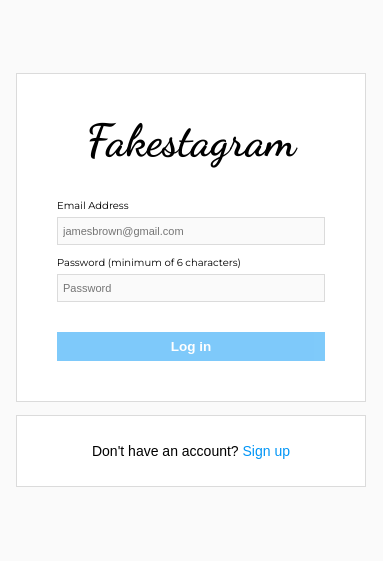
it: SignUpAndLogin component › is able to to successfully go from the Login page to the Signup page and back to the Signup page
The image size is (383, 561).
Expected: the button "Log in" is shown, [57,332,325,361]
Expected: the text "Don't have an account?" is shown, [92,443,243,459]
What coordinates should you click on to do the following:
click the link "Sign up"
I would click on:
 (266, 451)
Its box is [242,443,290,459].
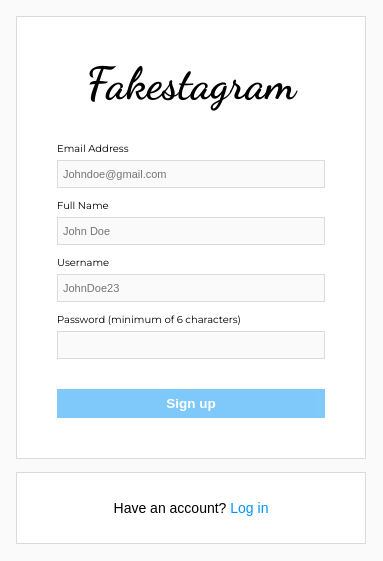
Expected: the button "Sign up" is shown, [57,389,325,418]
Expected: the text "Have an account?" is shown, [114,500,230,516]
What coordinates should you click on to do the following:
click the link "Log in"
I would click on:
 (249, 508)
Its box is [230,500,268,516].
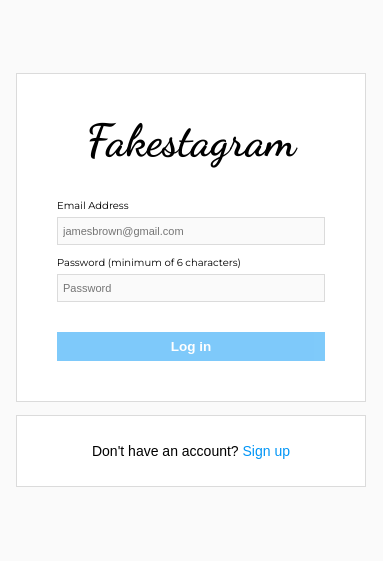
Expected: the button "Log in" is shown, [57,332,325,361]
Result: the text "Don't have an account?" is shown at [92,443,243,459]
